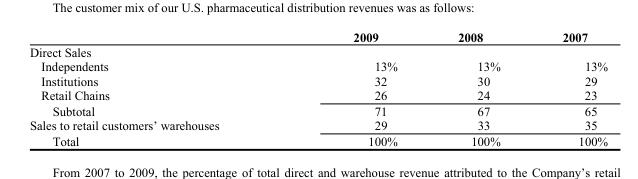table: (28, 29, 607, 147)
table column: (28, 29, 285, 147), (285, 29, 427, 147), (427, 29, 530, 147), (530, 29, 607, 147)
table column header: (28, 29, 607, 44)
table projected row header: (28, 44, 607, 58)
table row: (28, 29, 607, 44), (28, 58, 607, 73), (28, 87, 607, 102), (28, 102, 607, 117), (28, 117, 607, 132), (28, 132, 607, 147), (28, 44, 607, 58), (28, 73, 607, 87)
